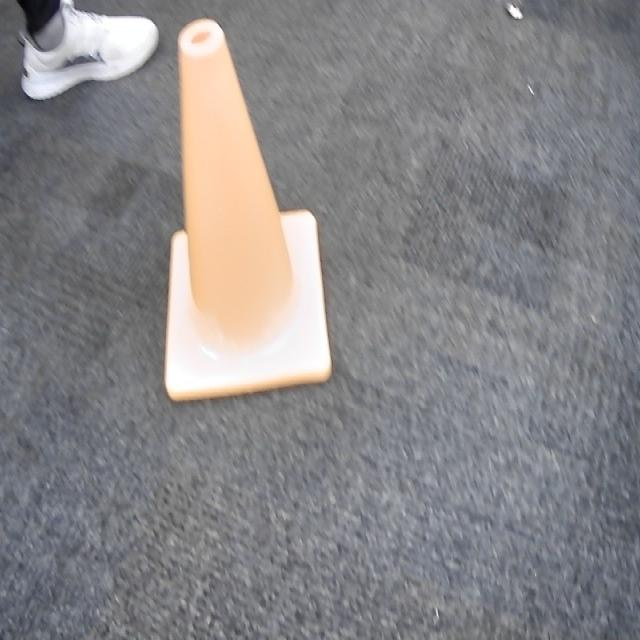cone: (162, 15, 334, 403)
